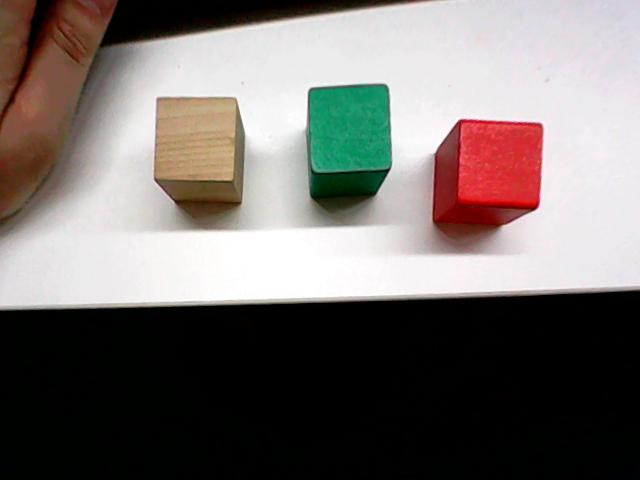green_box: (303, 79, 394, 202)
raw_box: (150, 92, 247, 207)
red_box: (429, 113, 547, 229)
